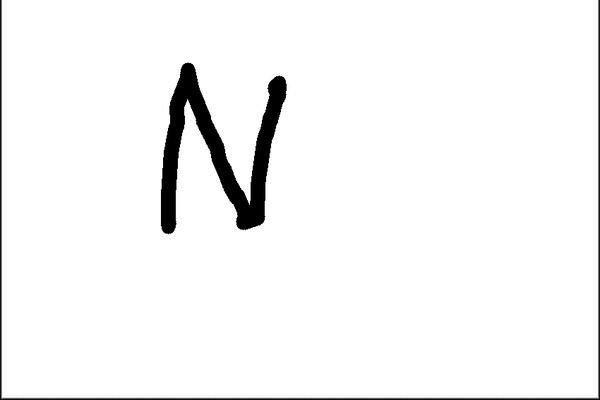N: (152, 58, 293, 240)
